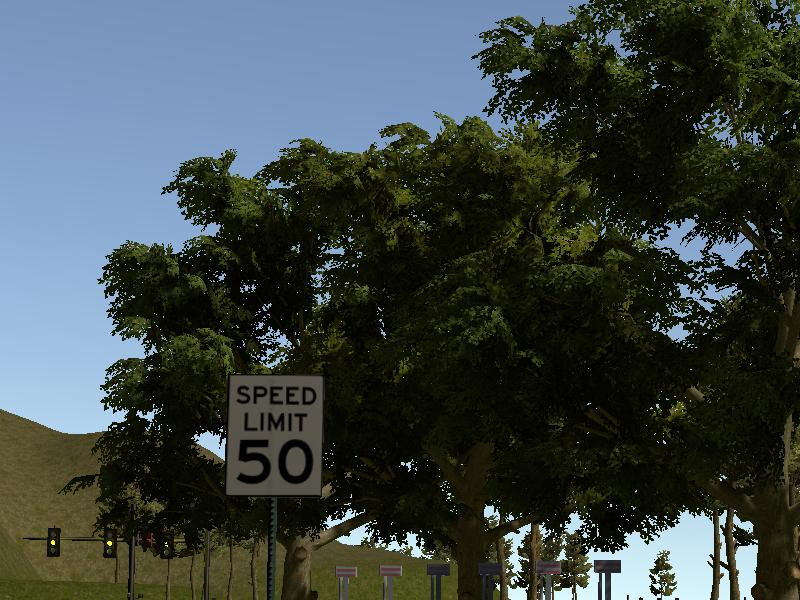Yellow: (47, 527, 60, 557), (104, 528, 117, 558)
